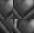heart: (13, 0, 34, 19), (13, 19, 34, 33), (0, 0, 13, 19)
